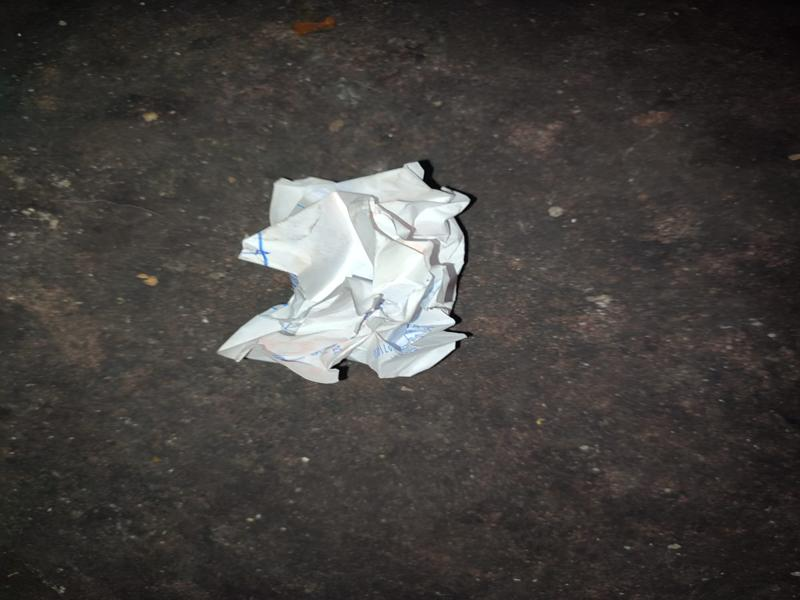papel: (218, 159, 476, 386)
